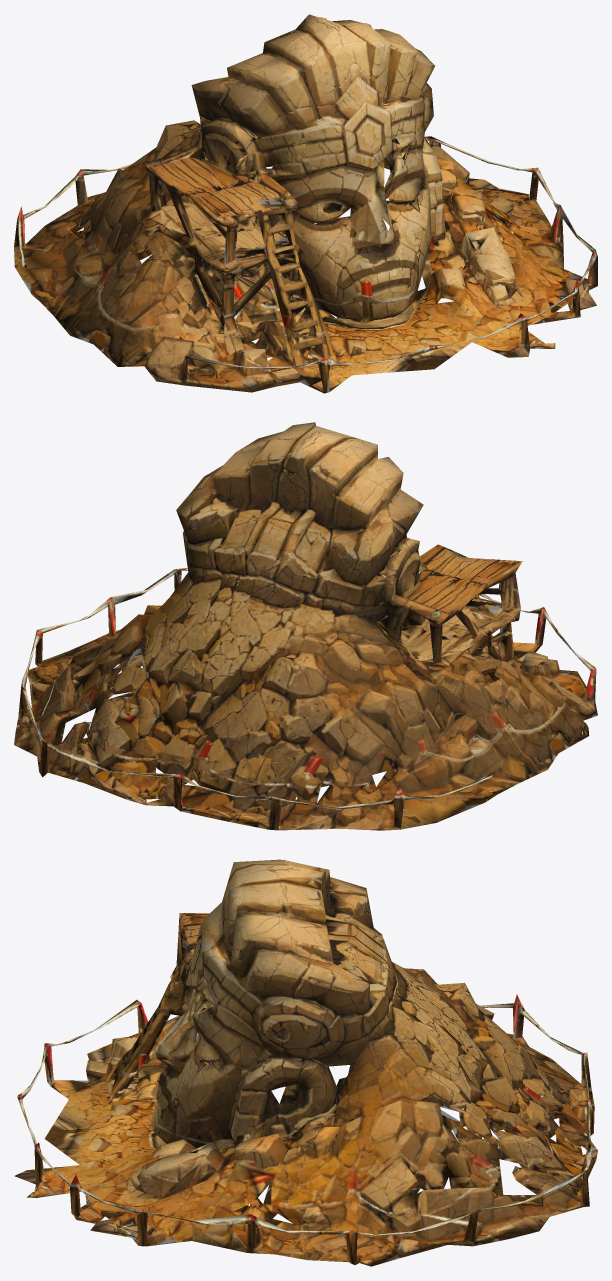
Rendered from EX_Exc_Statue.fbx.
3 renders of one model, top to bottom at view 1: azimuth 30°, elevation 25°; view 2: azimuth 150°, elevation 25°; view 3: azimuth 270°, elevation 25°, orthographic. The views are drawn at different scales.
Visible parts, largest first — view 1: texture_mapping; view 2: texture_mapping; view 3: texture_mapping.
Boxes of the visible parts, left/top/right/bottom form: texture_mapping: left=14, top=14, right=597, bottom=393; texture_mapping: left=14, top=422, right=597, bottom=830; texture_mapping: left=14, top=859, right=597, bottom=1266.
Size of the model in its own units: 0.9647 by 0.9489 by 0.4986.
1 material, 1 textured.
